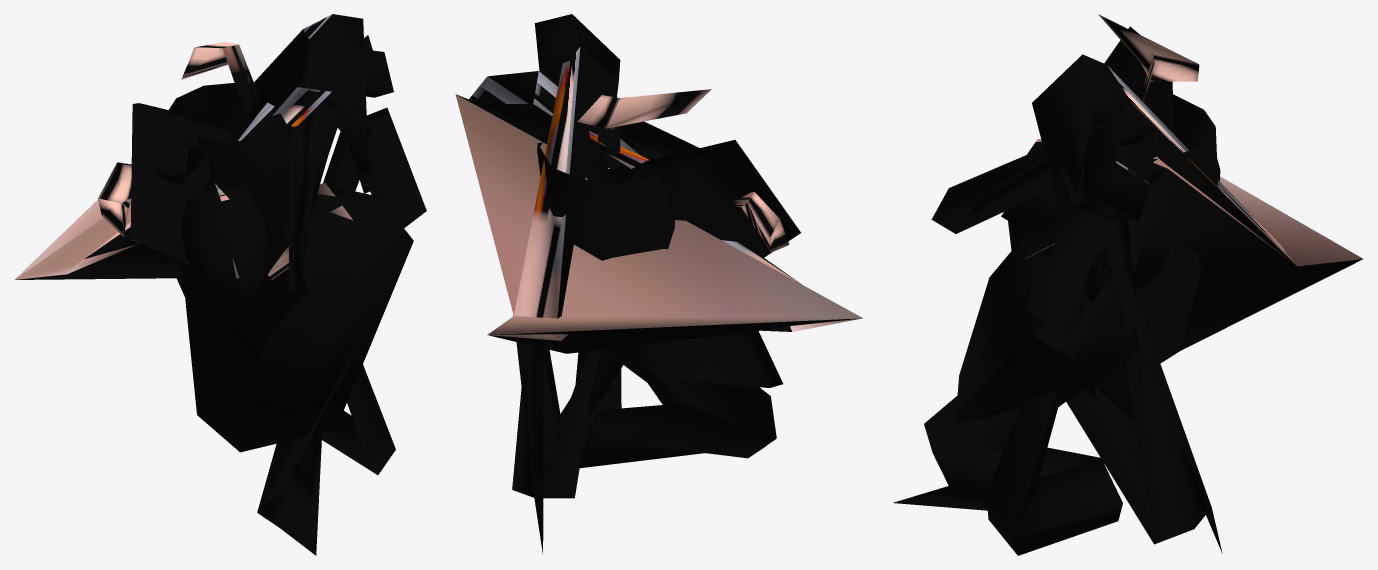
3 renders of one model, left to right at view 1: azimuth 30°, elevation 25°; view 2: azimuth 150°, elevation 25°; view 3: azimuth 270°, elevation 25°, orthographic. The views are drawn at different scales.
Parts seen in each view (by area): view 1: T1L1M006_1; view 2: T1L1M006_1; view 3: T1L1M006_1.
Part boxes in pixels (left/top/right/bottom): T1L1M006_1: left=14, top=14, right=426, bottom=555; T1L1M006_1: left=455, top=14, right=862, bottom=553; T1L1M006_1: left=893, top=14, right=1362, bottom=555.
Size of the model in its own units: 1.01 by 1.18 by 0.971.
